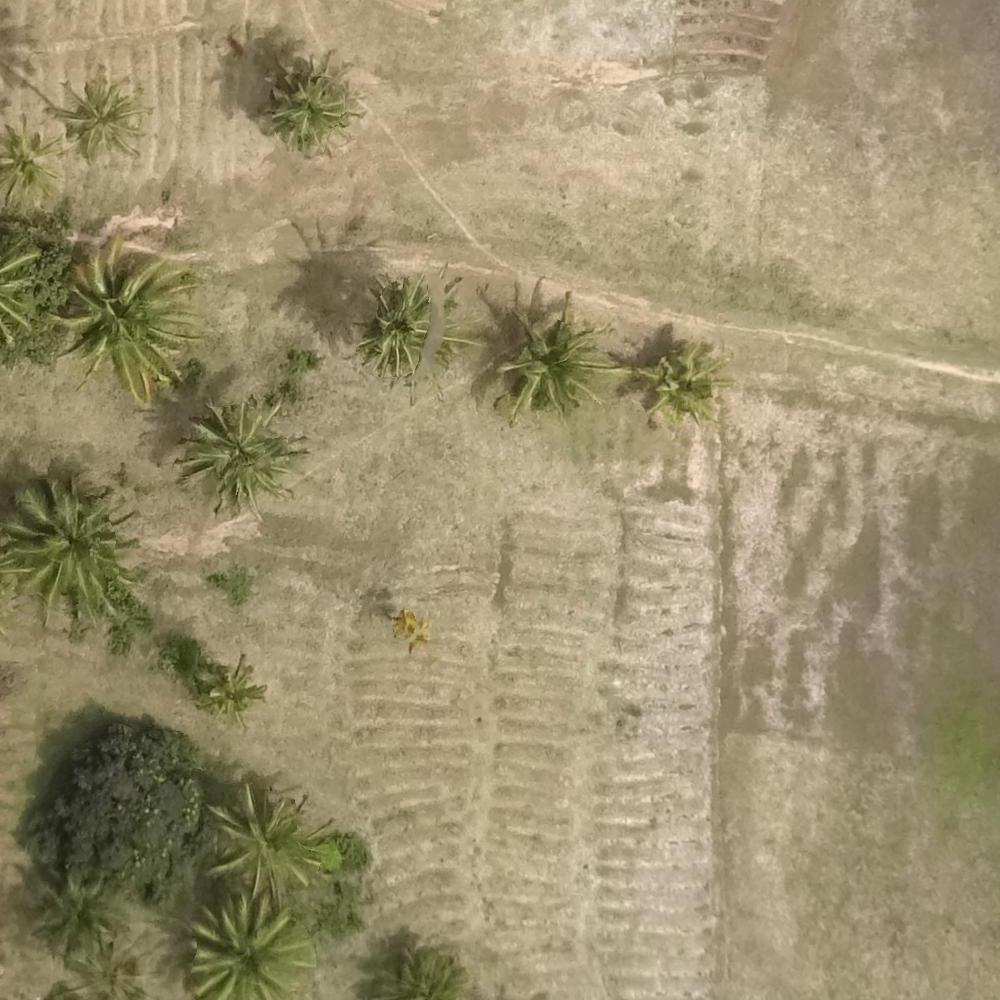Palm: (64, 234, 203, 392), (11, 474, 135, 623), (210, 782, 320, 895), (499, 308, 611, 418), (190, 896, 311, 997), (185, 405, 291, 507), (361, 274, 461, 377), (267, 59, 358, 151), (641, 341, 725, 430), (58, 79, 142, 159), (1, 118, 67, 209), (199, 656, 265, 722)
